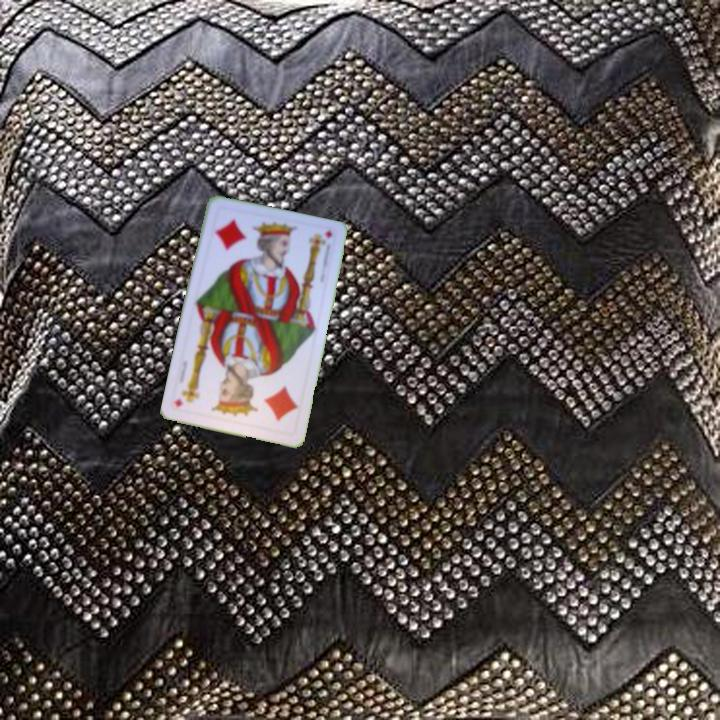d_k.png: (202, 205, 279, 274), (230, 368, 307, 437)
